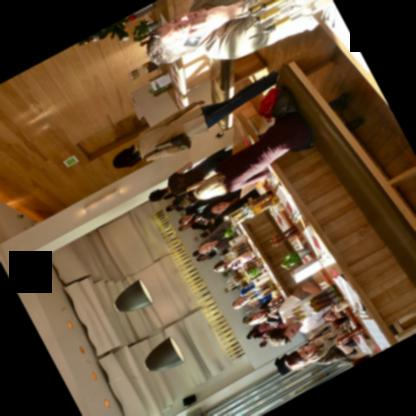backpack: (255, 87, 296, 122)
handbag: (141, 132, 194, 160), (257, 86, 297, 121)
